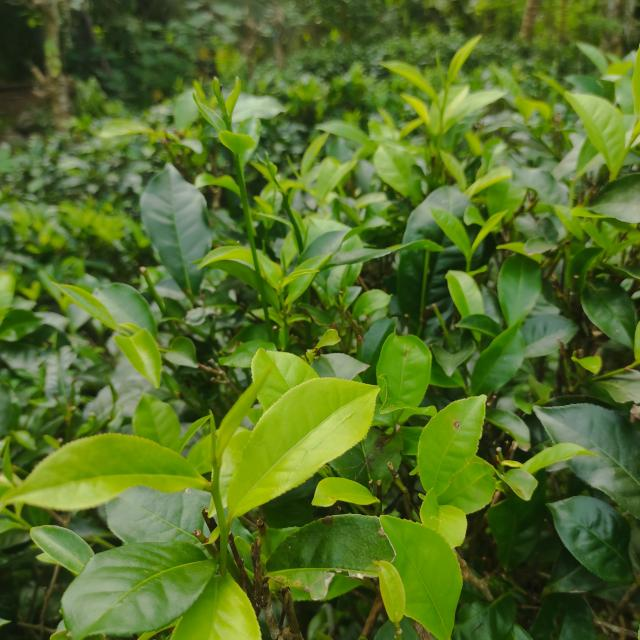unopened_leaf: (214, 353, 282, 468), (221, 69, 249, 124), (199, 409, 224, 466), (206, 74, 230, 118), (283, 152, 309, 191), (433, 44, 451, 90)
